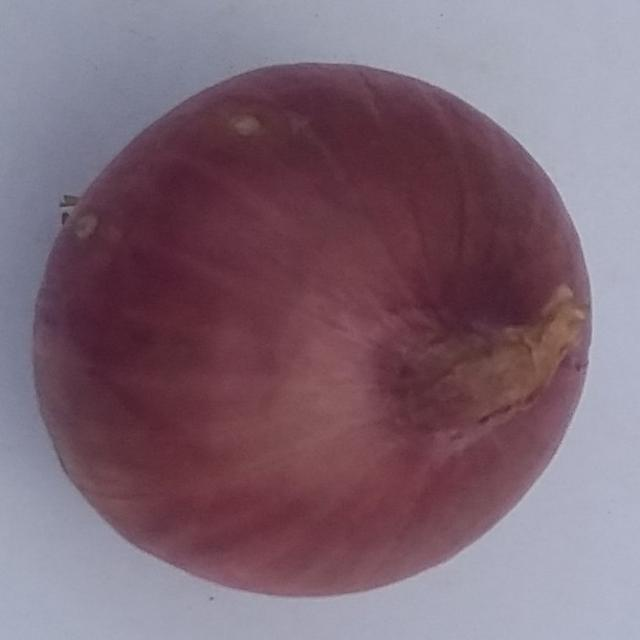onion: (28, 59, 597, 601)
